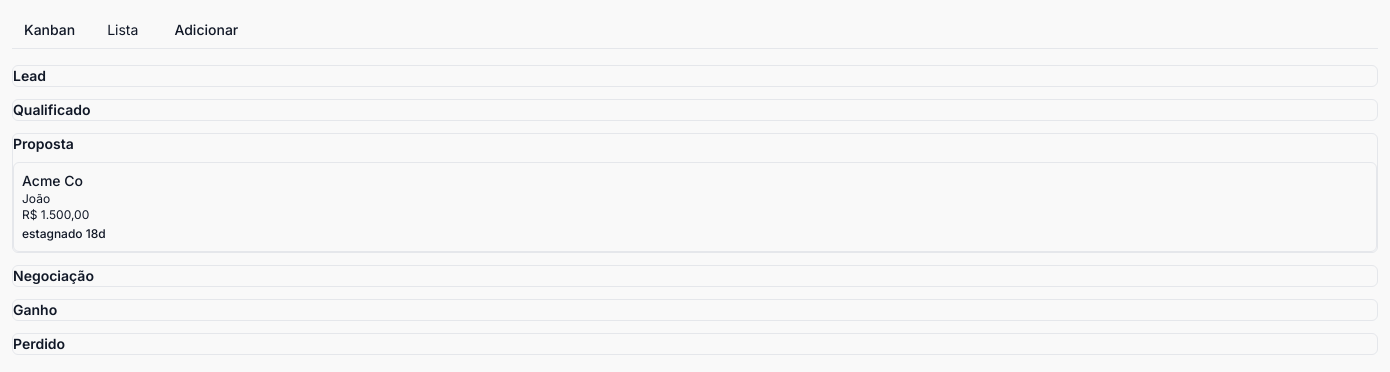
Scenario: FunilPanel Lista view (sales-pipeline-via-agent-task-frontend-funil-3) › unit-1: Lista table columns and header match the Empresas tab layout
What coordinates should you click on to do the following:
click the tab with aria-label "visualização lista"
I would click on:
 (123, 30)
Its box is x1=95 y1=12 x2=150 y2=48.
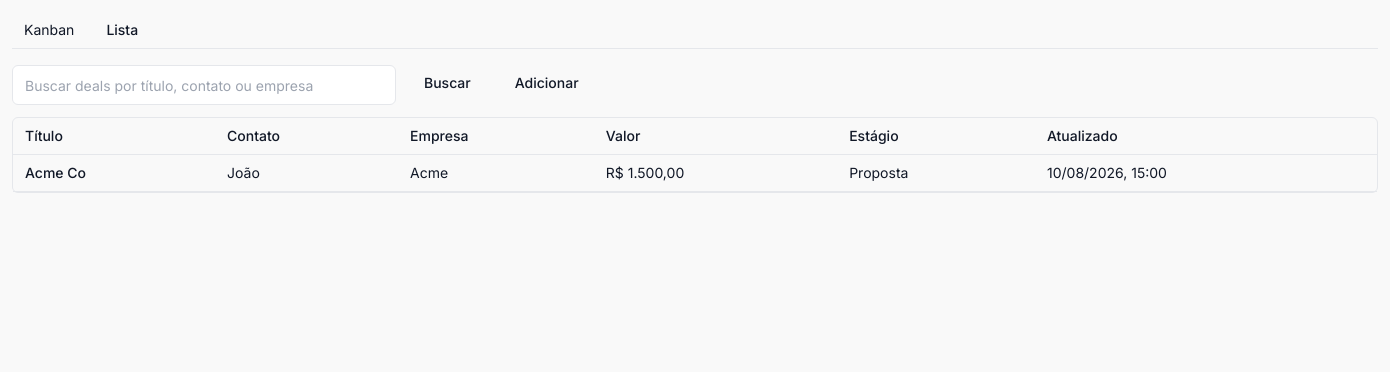
expect the column headings read "Título", "Contato", "Empresa", "Valor", "Estágio", "Atualizado", in this order: met, box x1=13 y1=118 x2=215 y2=154; x1=215 y1=118 x2=398 y2=154; x1=398 y1=118 x2=594 y2=154; x1=594 y1=118 x2=837 y2=154; x1=837 y1=118 x2=1035 y2=154; x1=1035 y1=118 x2=1377 y2=154
expect the element named "buscar deals" is shown: met, box x1=12 y1=65 x2=595 y2=105
expect the button "Buscar" is shown: met, box x1=408 y1=65 x2=487 y2=101
